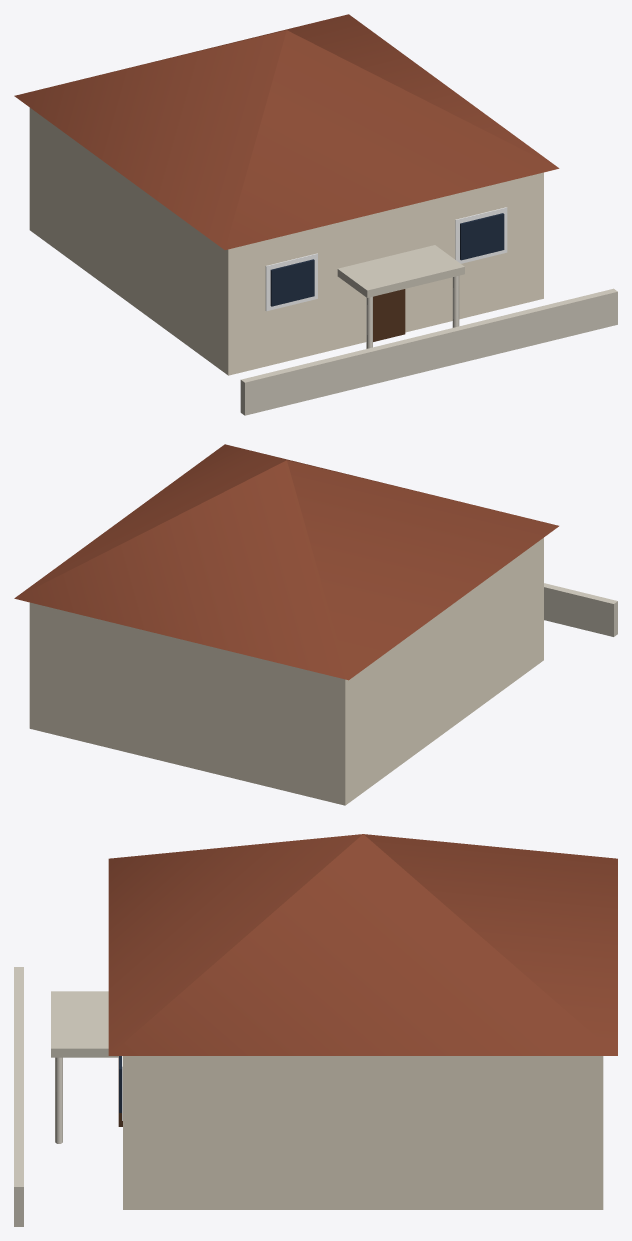
The model's file is rumah_menteng_1.glb.
3 renders of one model, top to bottom at view 1: azimuth 30°, elevation 25°; view 2: azimuth 150°, elevation 25°; view 3: azimuth 270°, elevation 25°, orthographic. The views are drawn at different scales.
Size of the model in its own units: 13 by 7.8 by 15.09.
